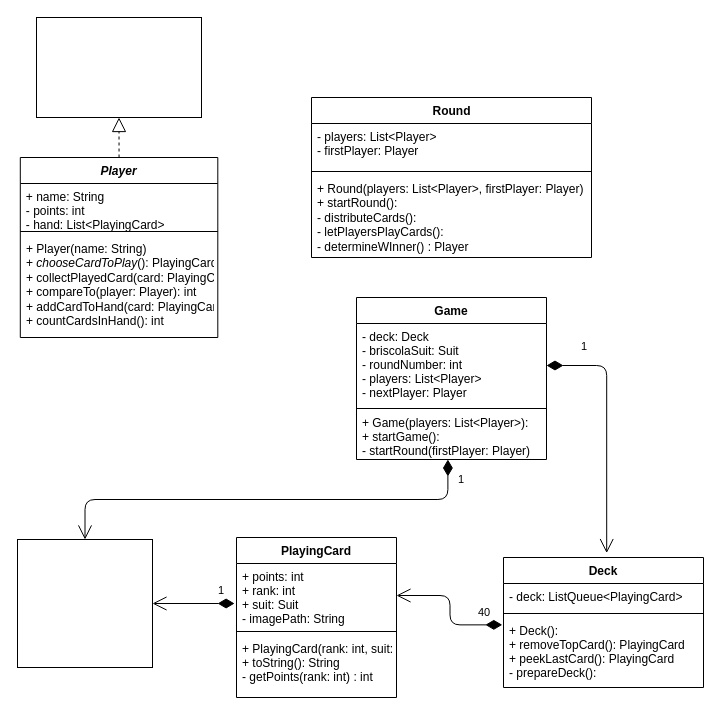
This 721x718 diagram has some shape labels left out. The shapes that lost their labels are listed below. From the top down, each one's centre as x and y in pixels, then its label:
the point at 119,67: <<Comparable>> Interface + compareTo(other: Type): int
the point at 84,603: <<enumeration>> Suit Bastoni Coppe Spade Denari
